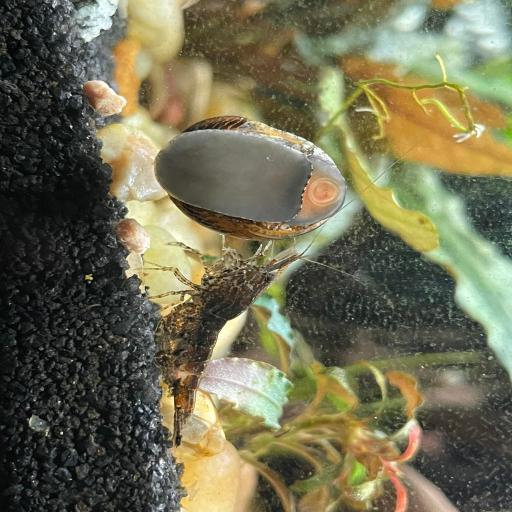Shrimp: (132, 233, 340, 449)
Snail: (145, 104, 362, 248)
